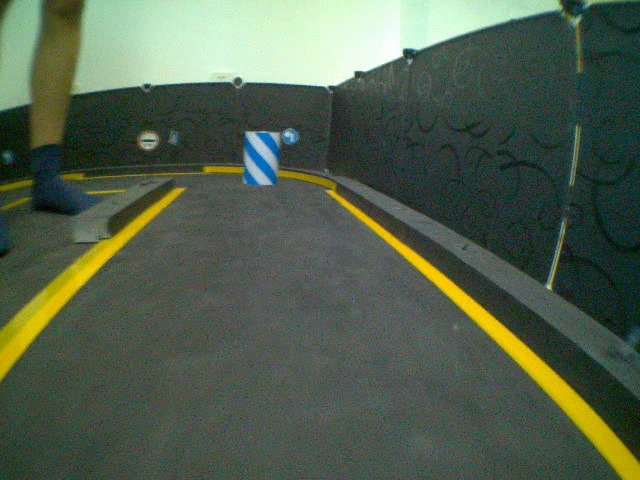bucket: (239, 128, 282, 189)
